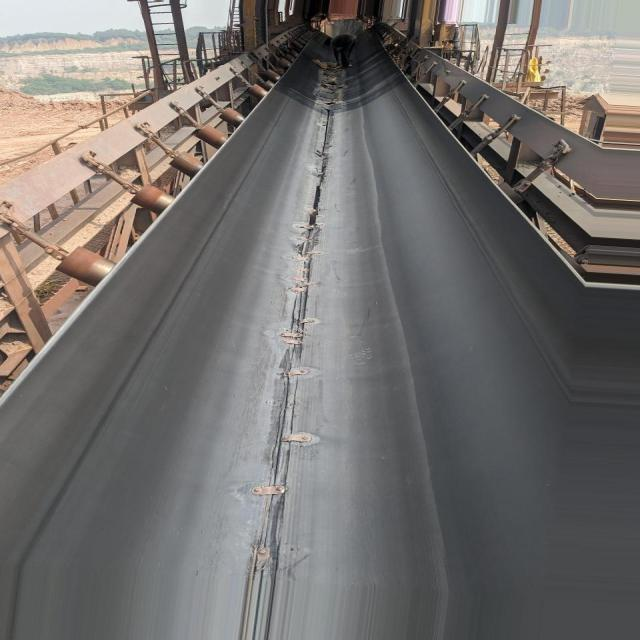Human: (330, 27, 365, 65)
Roller: (52, 16, 312, 285)
Tear: (290, 136, 341, 279)
patch work: (236, 287, 317, 628), (312, 63, 351, 121)
